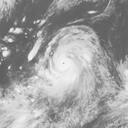cyclone: (31, 24, 101, 102)
